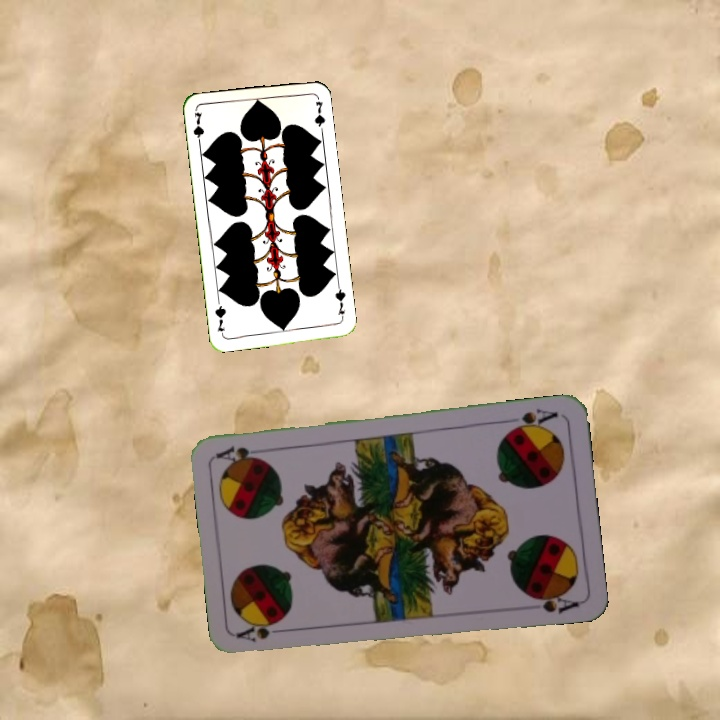G7: (189, 108, 207, 149), (331, 281, 348, 322)
SA: (504, 404, 561, 434), (234, 619, 293, 645)
